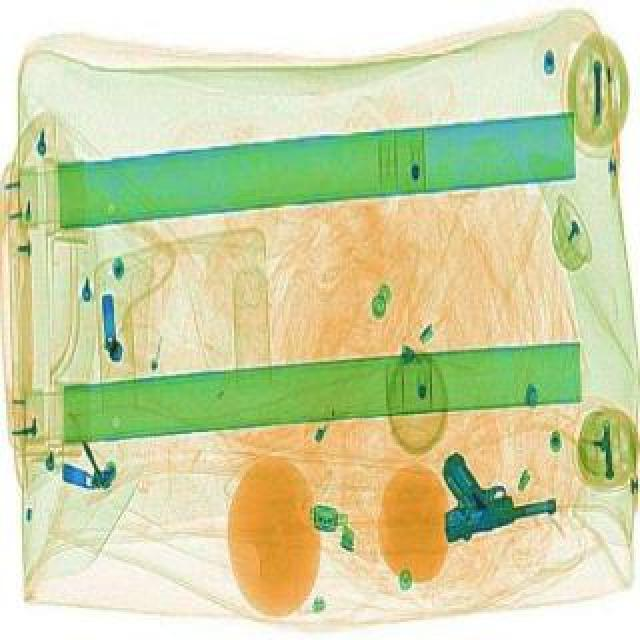gun: (442, 452, 560, 536)
